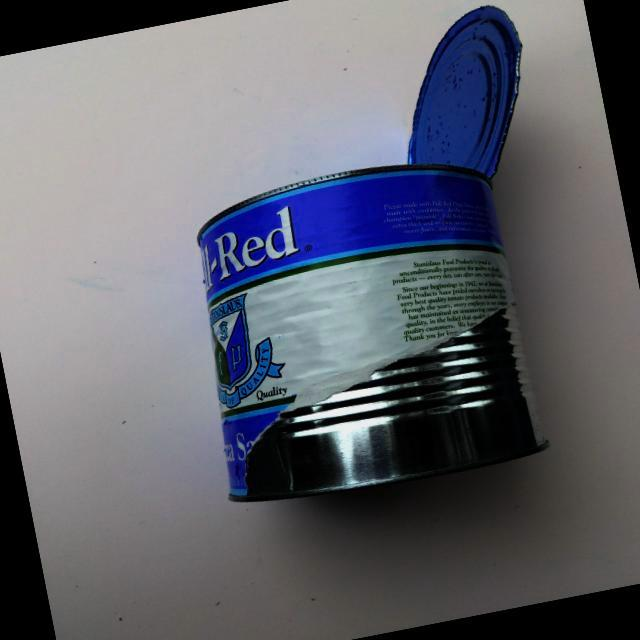metal: (146, 0, 606, 526)
